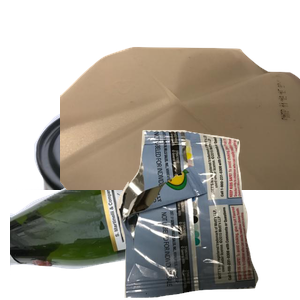glass: (10, 154, 246, 300)
metal: (16, 96, 244, 276)
plastic: (60, 44, 300, 224)
trash: (114, 130, 300, 300)
